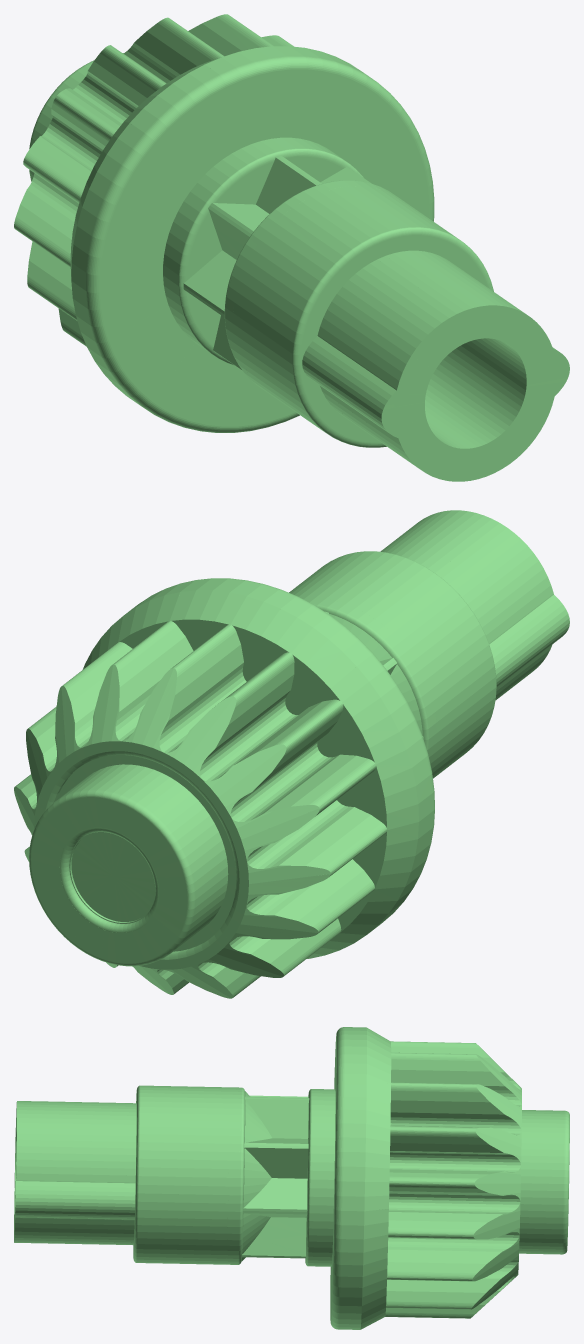
Rendered from IW Bit.glb.
The picture shows the model from 3 angles, top to bottom: view 1: azimuth 30°, elevation 25°; view 2: azimuth 150°, elevation 25°; view 3: azimuth 270°, elevation 25°; orthographic projection. The views are drawn at different scales.
Parts seen in each view (by area): view 1: Bit; view 2: Bit; view 3: Bit.
Part boxes in pixels (x1,y1,x2,y2): Bit: (14, 14, 569, 481); Bit: (14, 510, 569, 998); Bit: (14, 1027, 569, 1329).
Bounding box in the file's own units: 0.162 × 0.1622 × 0.2976.
